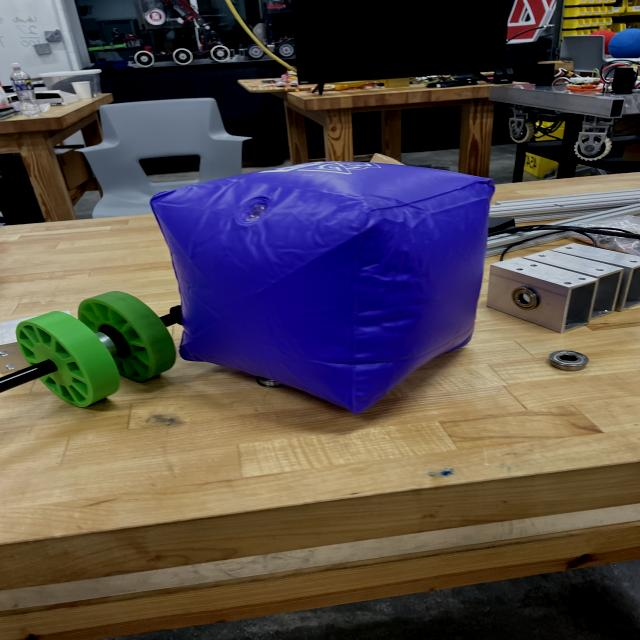frc_cube: (160, 157, 503, 412)
